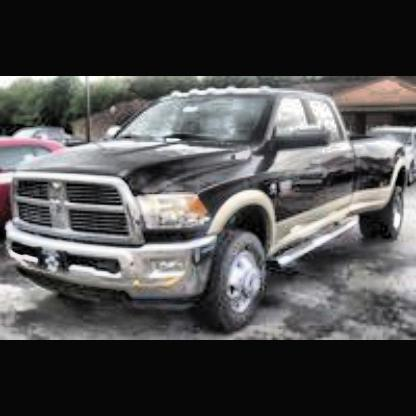Dodge Ram Pickup 3500 Crew Cab 2010: (8, 86, 413, 321)
